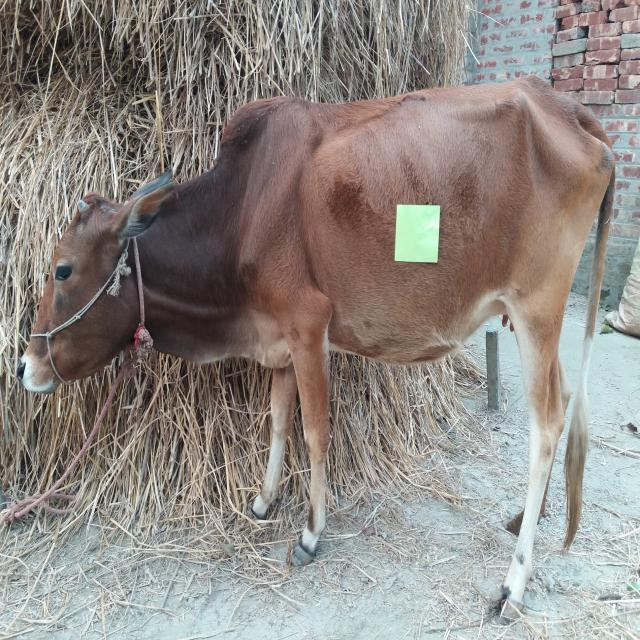badan_sapi: (258, 89, 612, 364)
sapi: (12, 63, 615, 629)
